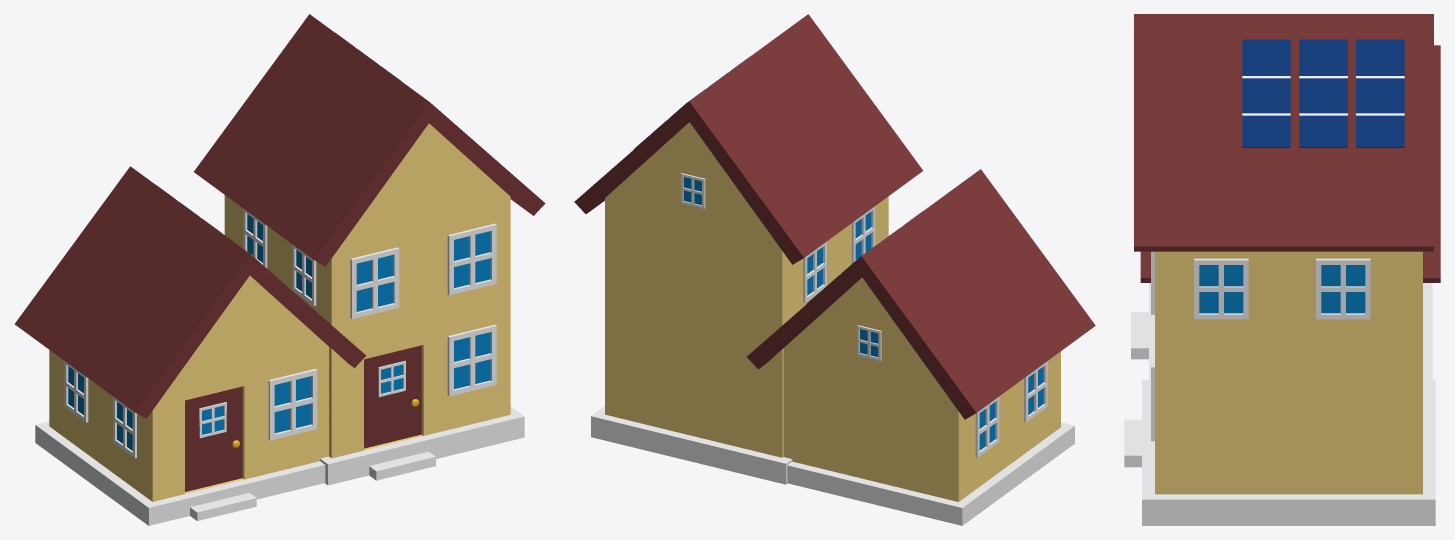
File: houses.glb
The picture shows the model from 3 angles, left to right: view 1: azimuth 30°, elevation 25°; view 2: azimuth 150°, elevation 25°; view 3: azimuth 270°, elevation 25°; orthographic projection. The views are drawn at different scales.
Visible parts, largest first — view 1: Cube.474; view 2: Cube.474; view 3: Cube.474.
Part boxes in pixels (x1,y1,x2,y2): Cube.474: (14,14,545,525); Cube.474: (574,14,1095,525); Cube.474: (1124,14,1440,525).
Size of the model in its own units: 2.22 by 1.88 by 1.19.
Materials: 1 (1 with a texture image).
